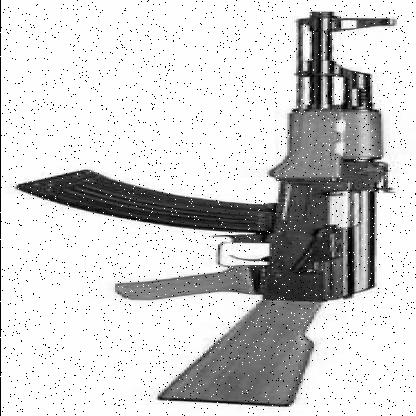rifle: (16, 7, 400, 408)
